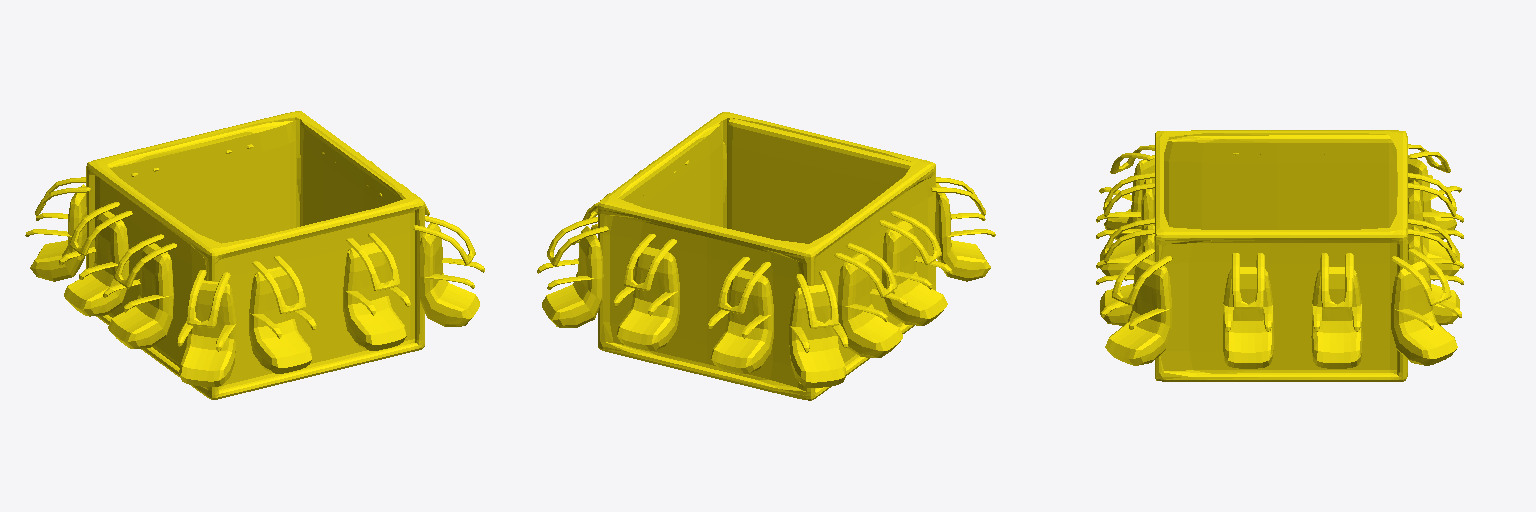
Rendered from towerfallcabins.obj.
3 views of the same model, side by side, from view 1: azimuth 30°, elevation 25°; view 2: azimuth 150°, elevation 25°; view 3: azimuth 270°, elevation 25° (orthographic).
Parts seen in each view (by area): view 1: Cube.002_Cube.032; view 2: Cube.002_Cube.032; view 3: Cube.002_Cube.032.
Boxes of the visible parts, box(x1,y1,x2,y2) form: Cube.002_Cube.032: box(25, 111, 484, 399); Cube.002_Cube.032: box(537, 112, 995, 400); Cube.002_Cube.032: box(1096, 130, 1463, 381).
Bounding box in the file's own units: 2.55 × 1.15 × 2.57.